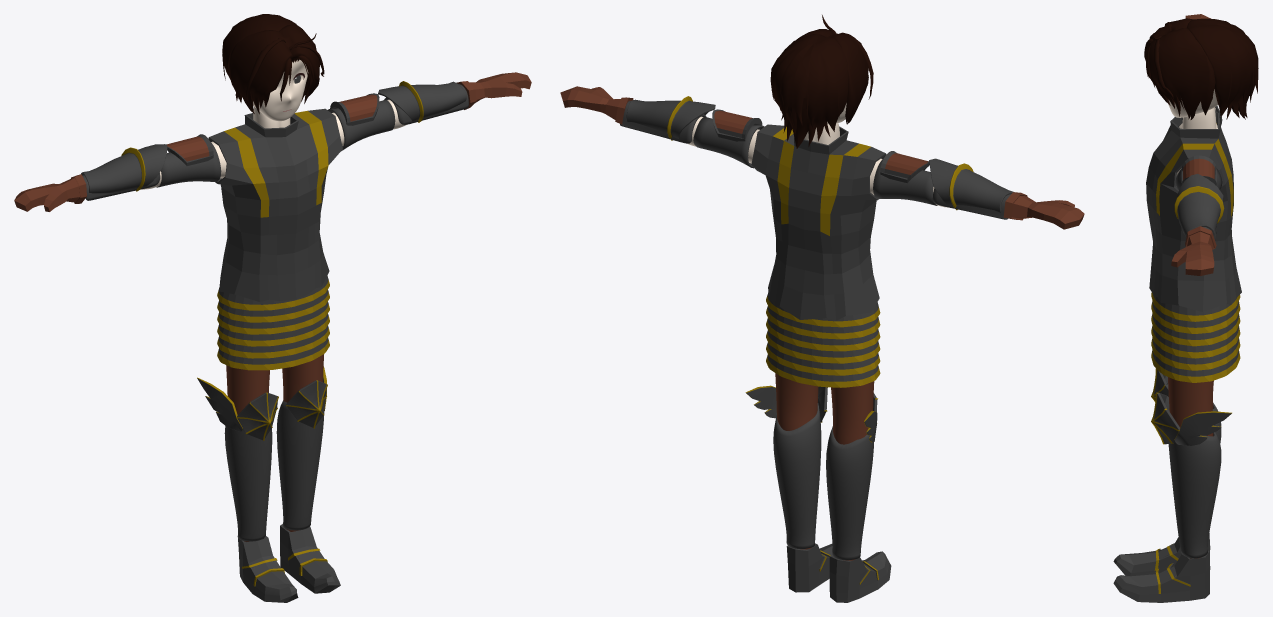
The picture shows the model from 3 angles, left to right: view 1: azimuth 30°, elevation 25°; view 2: azimuth 150°, elevation 25°; view 3: azimuth 270°, elevation 25°; orthographic projection. The views are drawn at different scales.
Visible parts, largest first — view 1: bady.002, bady.007, Circle.002, Sa_, 4, 2, 1, 3, bady.005, bady.009, Cylinder, body.head.001 (+2 smaller); view 2: bady.002, bady.007, Sa_, Circle.002, 2, 4, bady.009, 3, bady.005, Cylinder, 1, bady.004 (+1 smaller); view 3: bady.002, Sa_, Circle.002, bady.007, 4, 1, 2, 3, bady.009, Cylinder, bady.001, body.head.001 (+1 smaller).
Part boxes in pixels (x1,y1,x2,y2): bady.002: [208, 108, 342, 301]; bady.007: [224, 400, 324, 541]; Circle.002: [217, 274, 329, 370]; Sa_: [222, 14, 324, 114]; 4: [237, 524, 340, 602]; 2: [81, 81, 466, 193]; 1: [197, 366, 327, 440]; 3: [14, 72, 531, 211]; bady.005: [156, 100, 395, 187]; bady.009: [226, 354, 323, 414]; Cylinder: [164, 93, 379, 165]; body.head.001: [253, 59, 308, 121]; bady.002: [751, 124, 886, 320]; bady.007: [773, 403, 873, 560]; Sa_: [770, 15, 873, 148]; Circle.002: [766, 292, 880, 387]; 2: [626, 96, 1014, 212]; 4: [786, 543, 891, 602]; bady.009: [775, 373, 874, 444]; 3: [560, 86, 1084, 229]; bady.005: [693, 117, 937, 205]; Cylinder: [712, 109, 929, 183]; 1: [745, 385, 877, 442]; bady.004: [620, 101, 1010, 219]; bady.002: [1146, 109, 1241, 311]; Sa_: [1144, 18, 1258, 119]; Circle.002: [1151, 287, 1240, 382]; bady.007: [1166, 383, 1221, 558]; 4: [1113, 533, 1210, 602]; 1: [1151, 368, 1231, 445]; 2: [1174, 174, 1224, 238]; 3: [1171, 14, 1216, 275]; bady.009: [1168, 377, 1213, 436]; Cylinder: [1181, 155, 1216, 185]; bady.001: [1176, 107, 1217, 175]; body.head.001: [1168, 89, 1218, 117].
Bounding box in the file's own units: 146 × 150 × 34.95.
